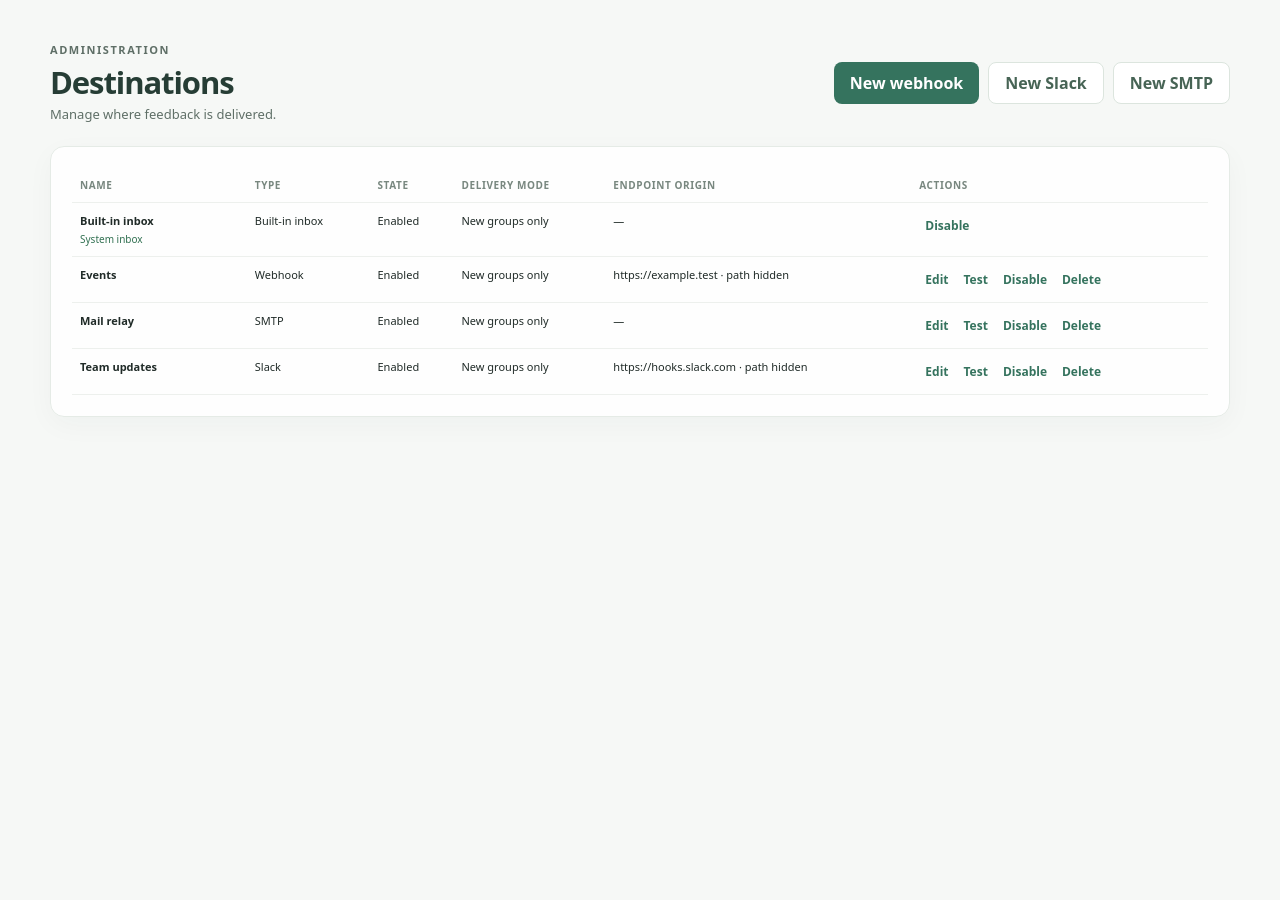
Test: Destinations admin UI › requires private-network confirmation before enabling the option
Click the button "New webhook" at (906, 83), box x1=834 y1=62 x2=979 y2=104
(page scrolled)
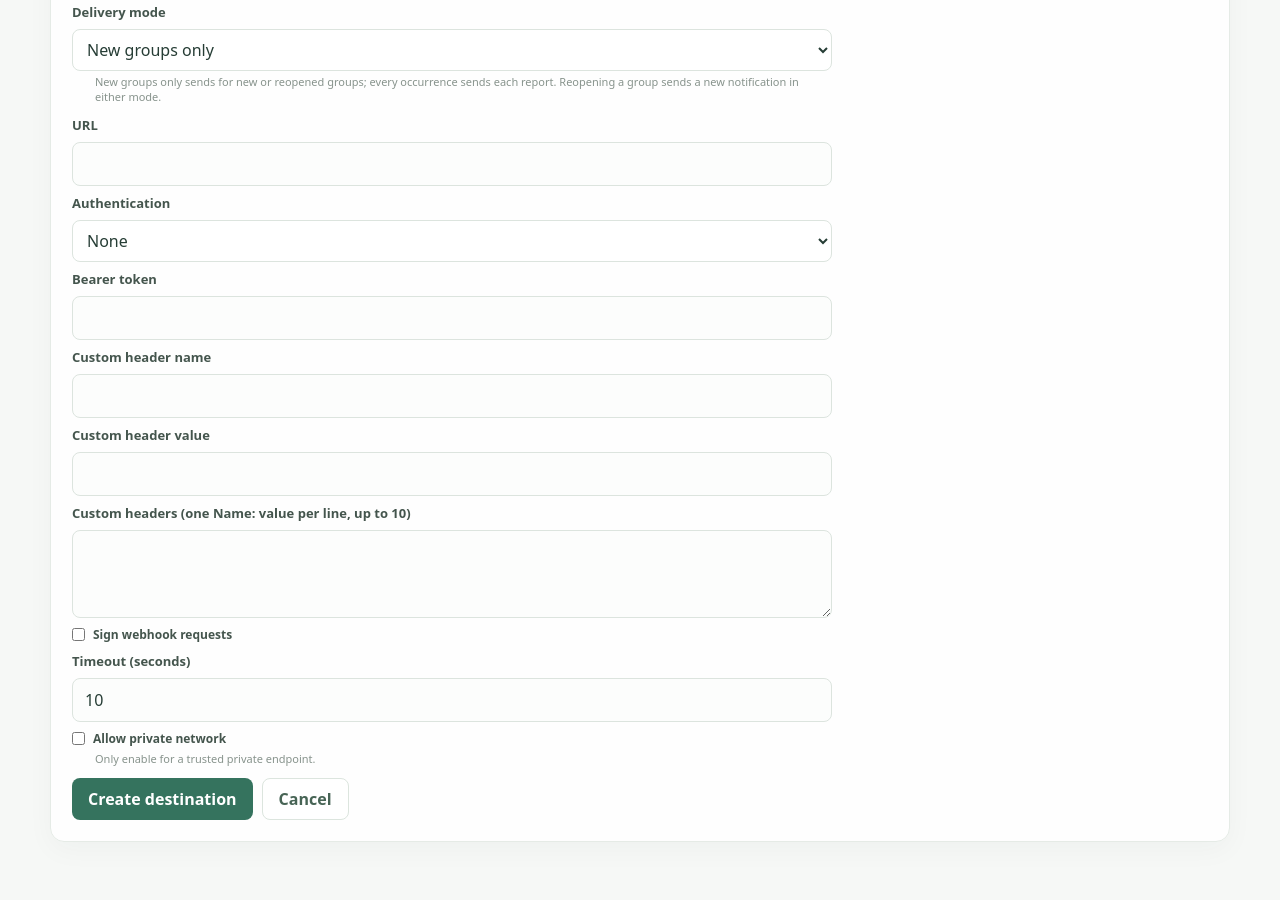
Click the checkbox named "allow_private_network" at (78, 739), box x1=72 y1=732 x2=85 y2=745
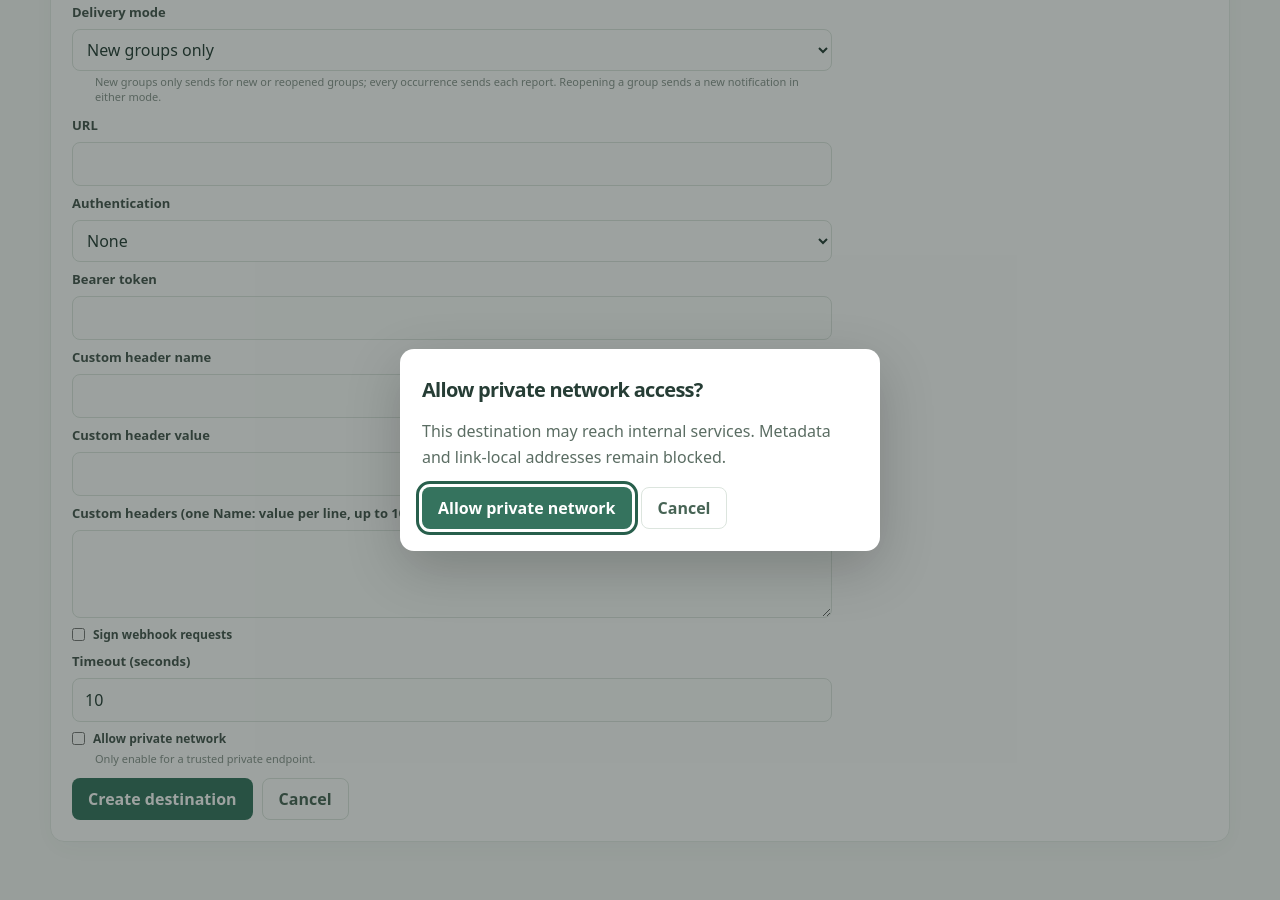
Check: the text "Metadata and link-local addresses remain blocked" is shown, box x1=422 y1=420 x2=831 y2=468
Click the button "Allow private network" at (527, 508), box x1=422 y1=487 x2=632 y2=529
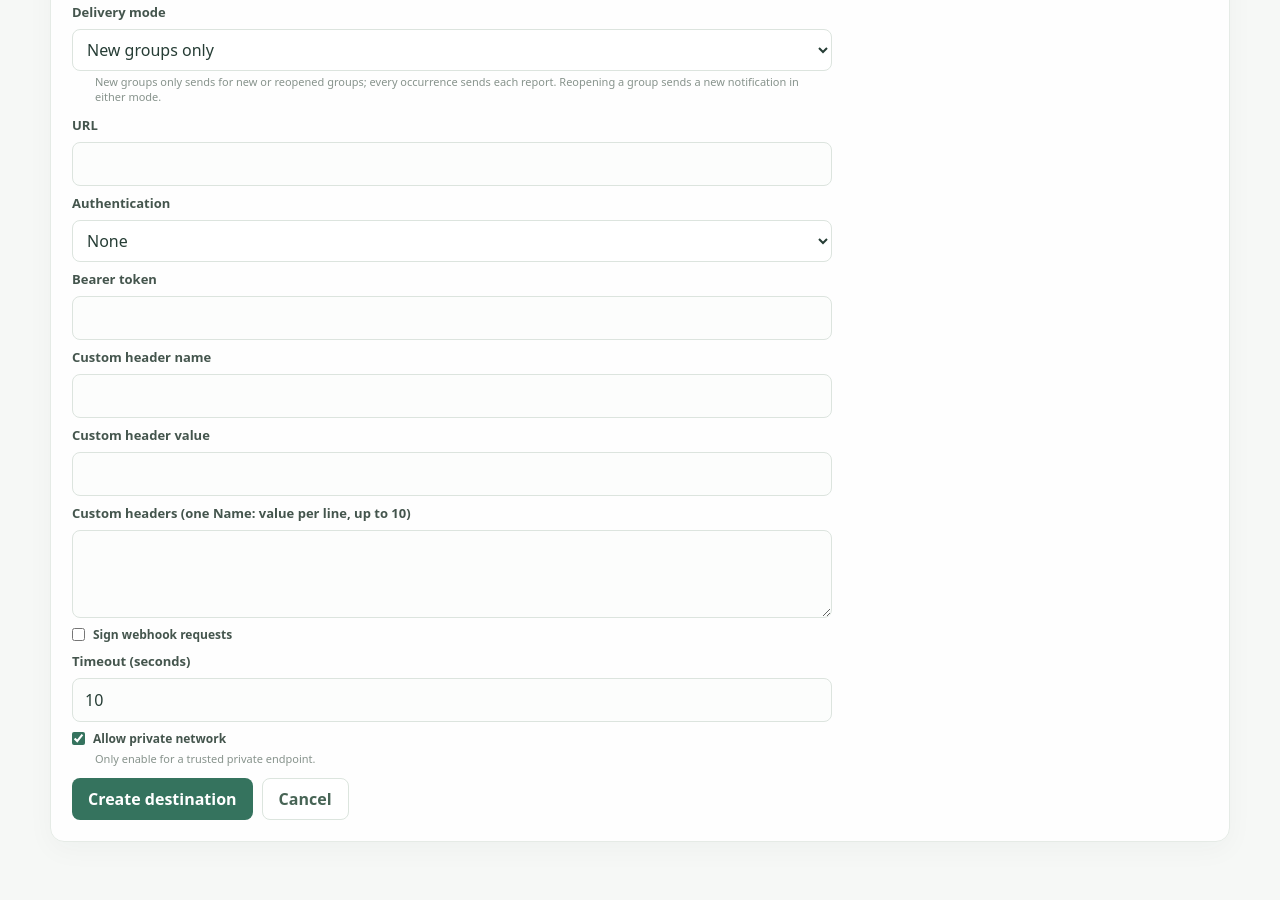
Check: the checkbox named "allow_private_network" is checked, box x1=72 y1=732 x2=85 y2=745
Check: the dialog is gone
